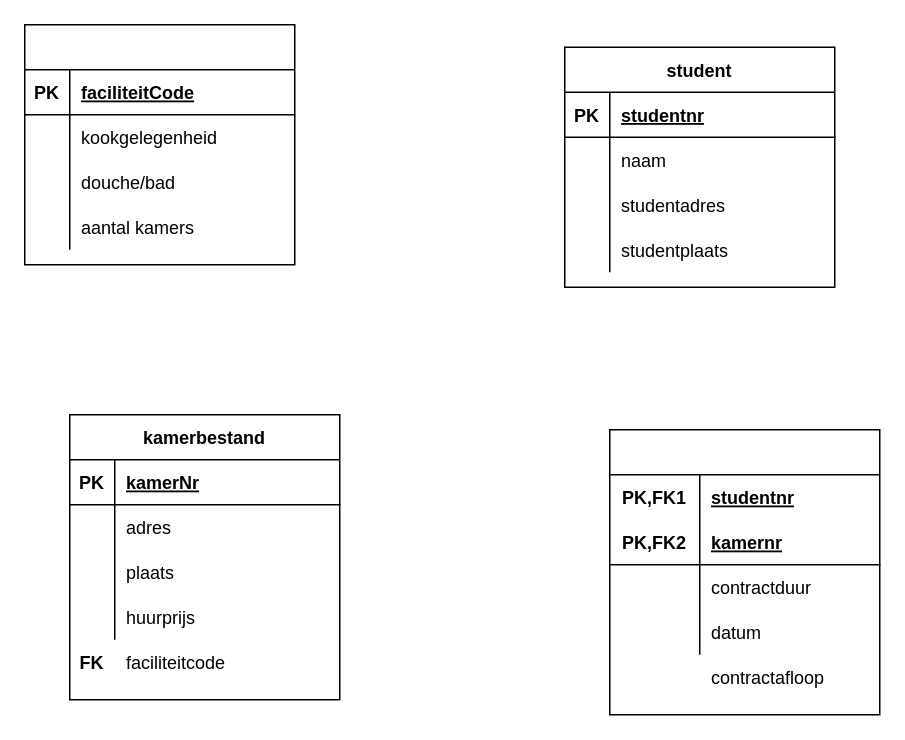
Image size: 905x740. Some labels were removed from this diagram. Each missing label, with the box of its shape:
faciliteiten: (23, 23, 295, 265)
huurcontract: (608, 428, 880, 715)
